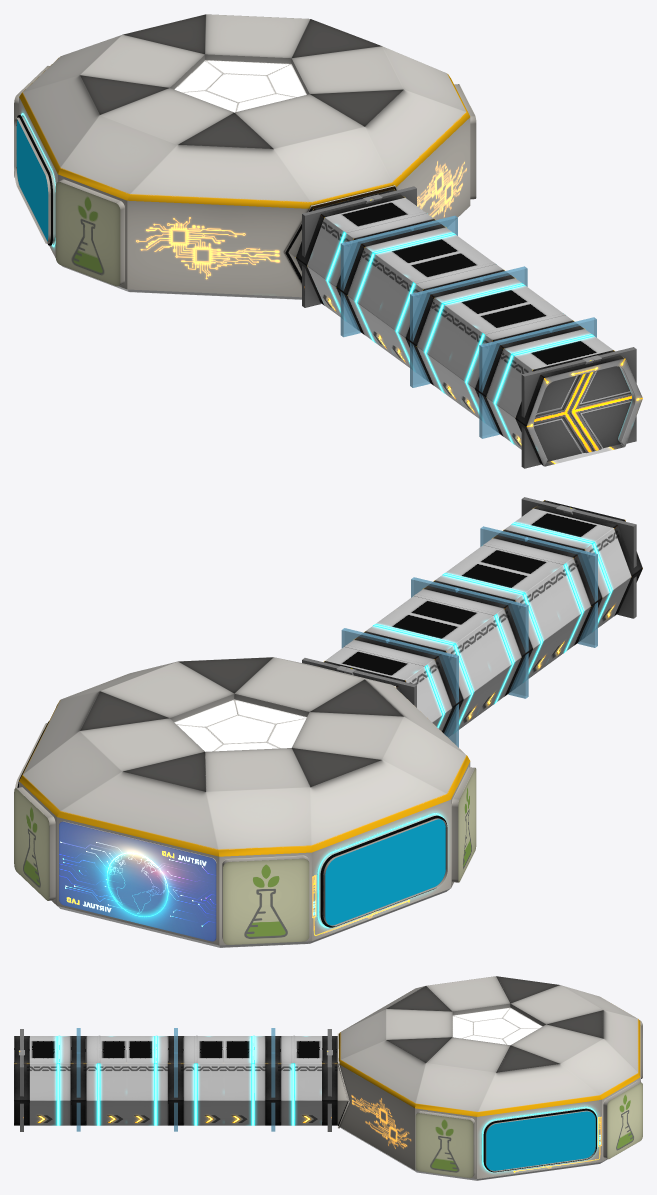
The picture shows the model from 3 angles, top to bottom: view 1: azimuth 30°, elevation 25°; view 2: azimuth 150°, elevation 25°; view 3: azimuth 270°, elevation 25°; orthographic projection. The views are drawn at different scales.
Visible parts, largest first — view 1: Roof, Wall_, Hollow2, Hollow, Hollow4, Tunnel_Exit_L_Door, Tunnel_Exit_R_Door, Frame3, Tunnel_Glass_L_Door1, Tunnel_Glass_L_Door2, Hollow3, Tunnel_Glass_L_Door (+3 smaller); view 2: Roof, Wall_, Hollow, Hollow4, Hollow2, Tunnel_Glass_L_Door, Tunnel_Glass_L_Door2, Tunnel_Exit_L_Door, Tunnel_Glass_L_Door1, Hollow3, Floor, Tunnel_door_L2; view 3: Roof, Wall_, Hollow2, Hollow, Hollow4, Hollow1, Hollow3, Floor, Tunnel_Glass_R_Door2, Tunnel_Glass_R_Door, Tunnel_door_R2, Tunnel_Exit_R_Door.
Part boxes in pixels (bbox=[...]): Roof: bbox=[19, 14, 470, 208]; Wall_: bbox=[14, 66, 476, 297]; Hollow2: bbox=[307, 197, 474, 355]; Hollow: bbox=[376, 248, 543, 406]; Hollow4: bbox=[446, 299, 612, 449]; Tunnel_Exit_L_Door: bbox=[521, 357, 593, 468]; Tunnel_Exit_R_Door: bbox=[569, 347, 636, 451]; Frame3: bbox=[518, 350, 642, 466]; Tunnel_Glass_L_Door1: bbox=[340, 226, 413, 337]; Tunnel_Glass_L_Door2: bbox=[479, 328, 552, 438]; Hollow3: bbox=[515, 350, 624, 466]; Tunnel_Glass_L_Door: bbox=[410, 277, 483, 387]; Roof: bbox=[19, 657, 470, 856]; Wall_: bbox=[14, 685, 476, 945]; Hollow: bbox=[395, 559, 561, 717]; Hollow4: bbox=[464, 508, 631, 666]; Hollow2: bbox=[325, 610, 492, 736]; Tunnel_Glass_L_Door: bbox=[455, 588, 528, 698]; Tunnel_Glass_L_Door2: bbox=[524, 537, 597, 647]; Tunnel_Exit_L_Door: bbox=[564, 507, 636, 618]; Tunnel_Glass_L_Door1: bbox=[385, 638, 458, 747]; Hollow3: bbox=[533, 500, 642, 615]; Floor: bbox=[57, 888, 450, 947]; Tunnel_door_L2: bbox=[344, 668, 416, 707]; Roof: bbox=[337, 976, 640, 1116]; Wall_: bbox=[337, 1020, 642, 1178]; Hollow2: bbox=[224, 1035, 321, 1125]; Hollow: bbox=[127, 1035, 224, 1125]; Hollow4: bbox=[30, 1035, 127, 1125]; Hollow1: bbox=[322, 1036, 337, 1125]; Hollow3: bbox=[14, 1036, 29, 1125]; Floor: bbox=[340, 1127, 607, 1180]; Tunnel_Glass_R_Door2: bbox=[76, 1052, 80, 1131]; Tunnel_Glass_R_Door: bbox=[271, 1052, 275, 1131]; Tunnel_door_R2: bbox=[326, 1052, 332, 1131]; Tunnel_Exit_R_Door: bbox=[18, 1052, 24, 1131].
Bounding box in the file's own units: 20.32 × 6.26 × 39.22.
